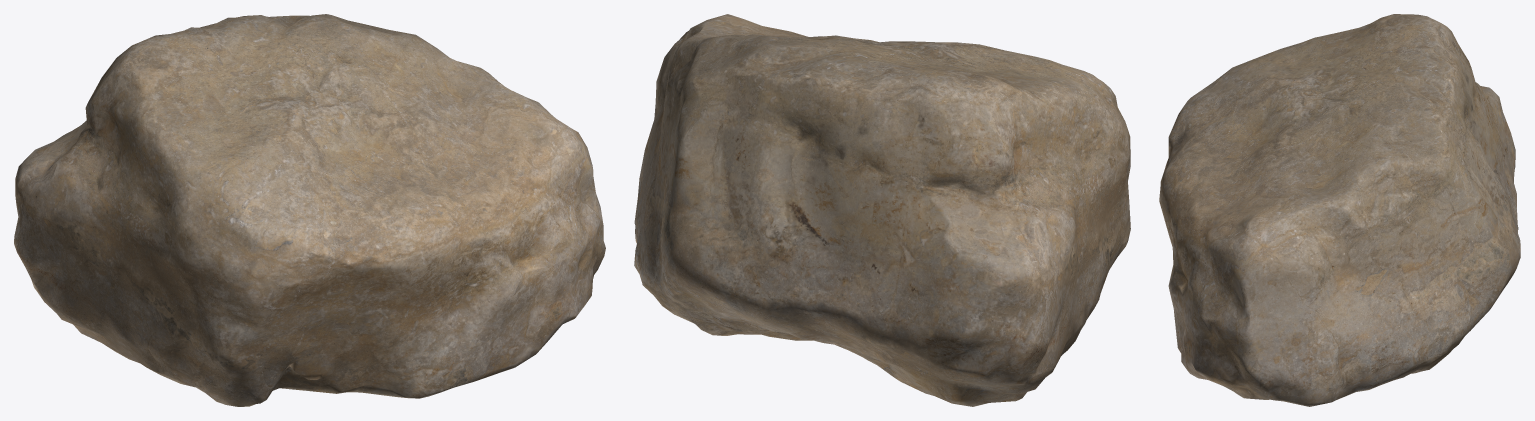
File: vecsch2qx_tier_2.gltf
3 views of the same model, side by side, from view 1: azimuth 30°, elevation 25°; view 2: azimuth 150°, elevation 25°; view 3: azimuth 270°, elevation 25° (orthographic). The views are drawn at different scales.
Visible parts, largest first — view 1: vecsch2qx_LOD0_TIER2_000; view 2: vecsch2qx_LOD0_TIER2_000; view 3: vecsch2qx_LOD0_TIER2_000.
Boxes of the visible parts, x1=… form: vecsch2qx_LOD0_TIER2_000: x1=14, y1=14, x2=605, y2=406; vecsch2qx_LOD0_TIER2_000: x1=634, y1=14, x2=1130, y2=406; vecsch2qx_LOD0_TIER2_000: x1=1159, y1=14, x2=1520, y2=406.
Bounding box in the file's own units: 1.16 × 0.721 × 0.881.
1 material, 1 textured.
